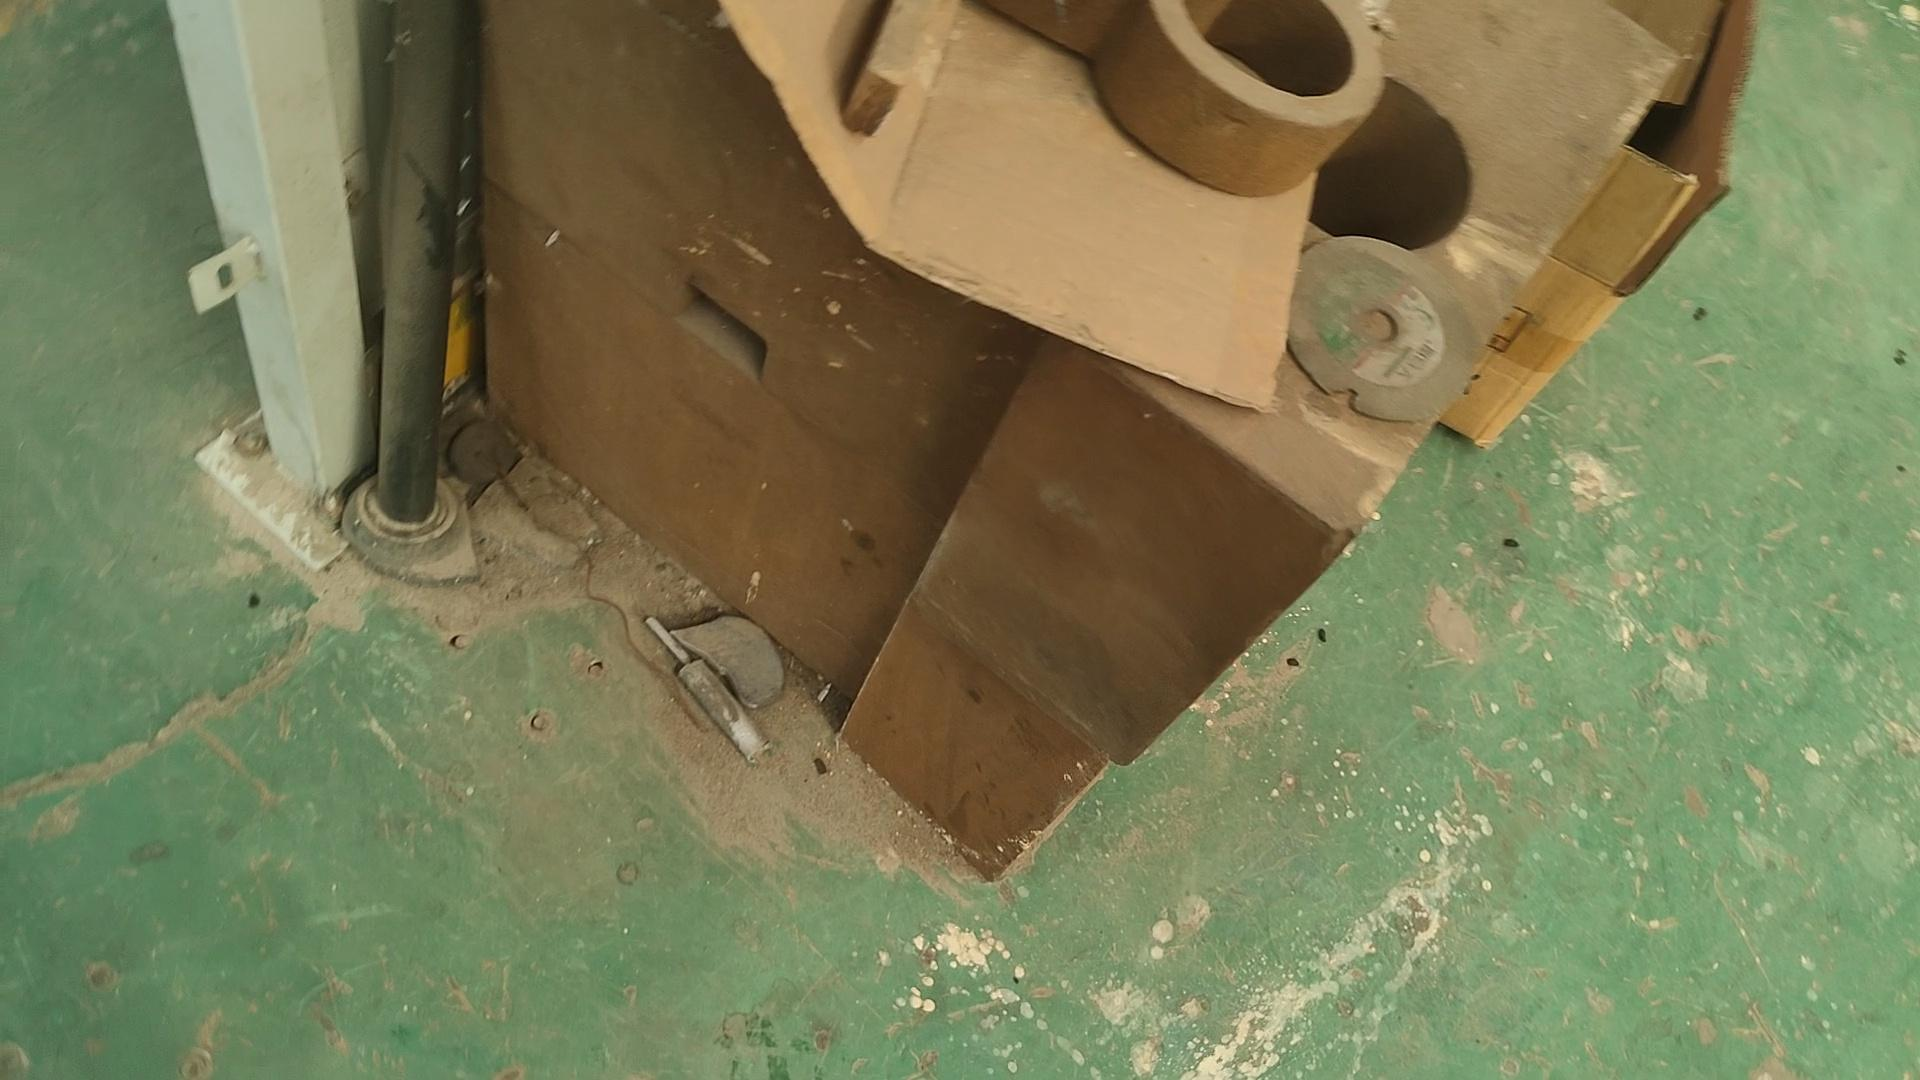pouring hole: (1284, 66, 1472, 251)
